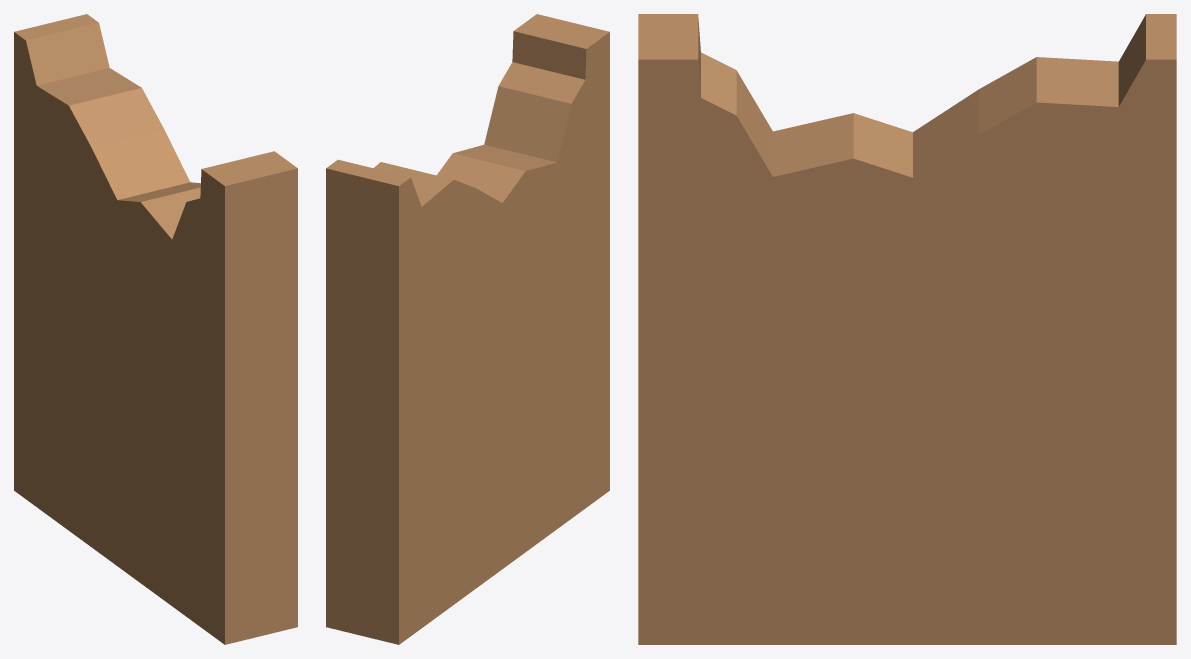
File: Wall_E_2_1.obj
The picture shows the model from 3 angles, left to right: view 1: azimuth 30°, elevation 25°; view 2: azimuth 150°, elevation 25°; view 3: azimuth 270°, elevation 25°; orthographic projection. The views are drawn at different scales.
Visible parts, largest first — view 1: Wall_E_2_1; view 2: Wall_E_2_1; view 3: Wall_E_2_1.
Part boxes in pixels (x1,y1,x2,y2): Wall_E_2_1: [14, 14, 297, 644]; Wall_E_2_1: [326, 14, 609, 644]; Wall_E_2_1: [638, 14, 1176, 644].
Size of the model in its own units: 0.4 by 2.4 by 2.
